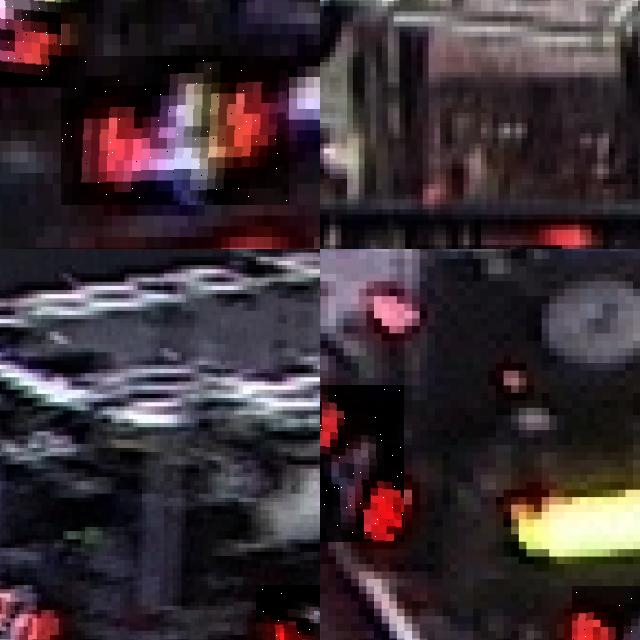R2: (256, 585, 320, 640)
R4: (61, 56, 289, 205), (320, 385, 404, 541), (0, 0, 61, 87), (572, 586, 640, 640)
